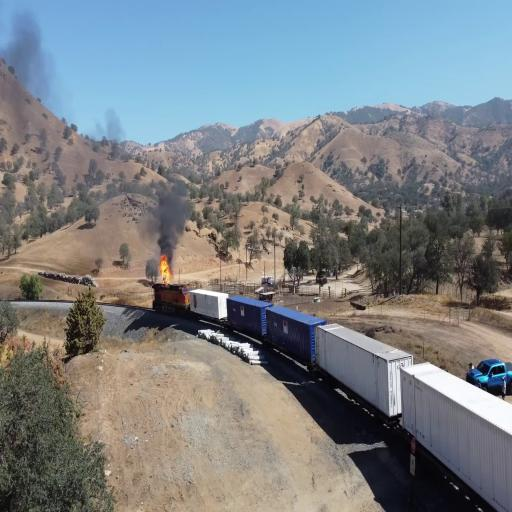fire: (160, 258, 173, 286)
smoke: (157, 188, 188, 246)
